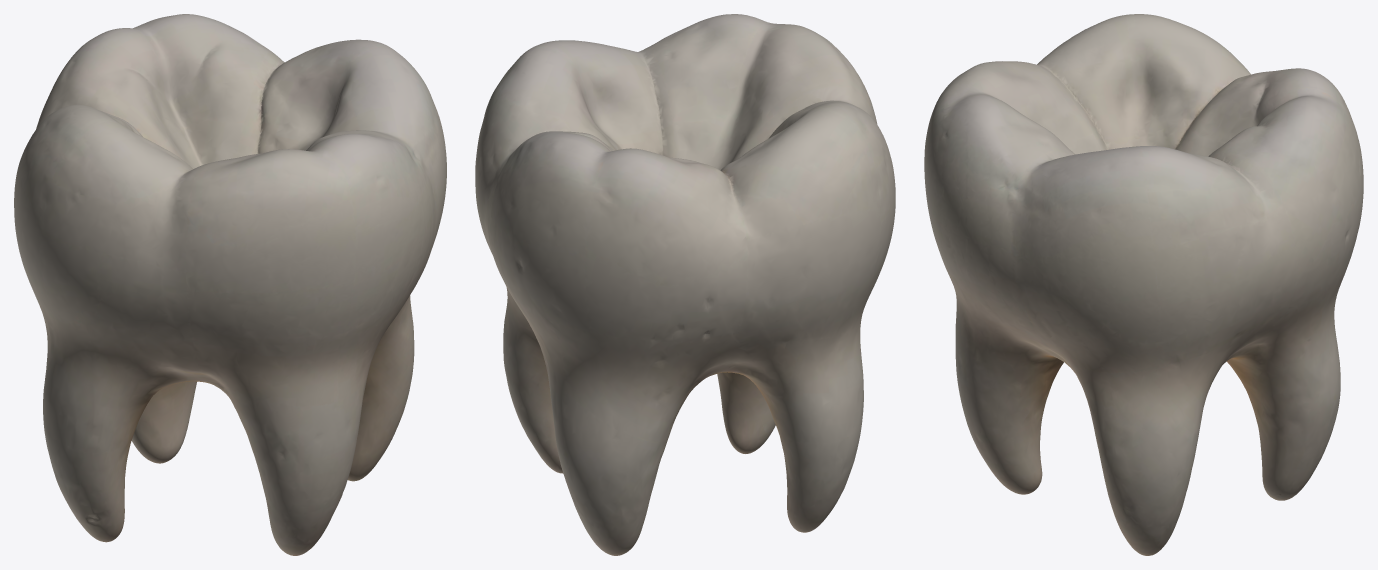
The model's file is dent-molaire-hero.glb.
3 renders of one model, left to right at view 1: azimuth 30°, elevation 25°; view 2: azimuth 150°, elevation 25°; view 3: azimuth 270°, elevation 25°, orthographic. The views are drawn at different scales.
Parts seen in each view (by area): view 1: tripo_node_d1ce5de6-f1c7-4229-a3ce-d3b36e0c8249; view 2: tripo_node_d1ce5de6-f1c7-4229-a3ce-d3b36e0c8249; view 3: tripo_node_d1ce5de6-f1c7-4229-a3ce-d3b36e0c8249.
Part boxes in pixels (bbox=[...]): tripo_node_d1ce5de6-f1c7-4229-a3ce-d3b36e0c8249: bbox=[14, 14, 446, 555]; tripo_node_d1ce5de6-f1c7-4229-a3ce-d3b36e0c8249: bbox=[475, 14, 895, 555]; tripo_node_d1ce5de6-f1c7-4229-a3ce-d3b36e0c8249: bbox=[924, 14, 1363, 555].
Size of the model in its own units: 0.9464 by 0.9999 by 0.9571.
Materials: 1 (1 with a texture image).
